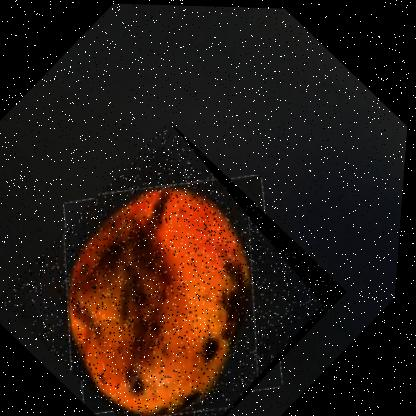mango_rotten: (0, 115, 364, 415)
